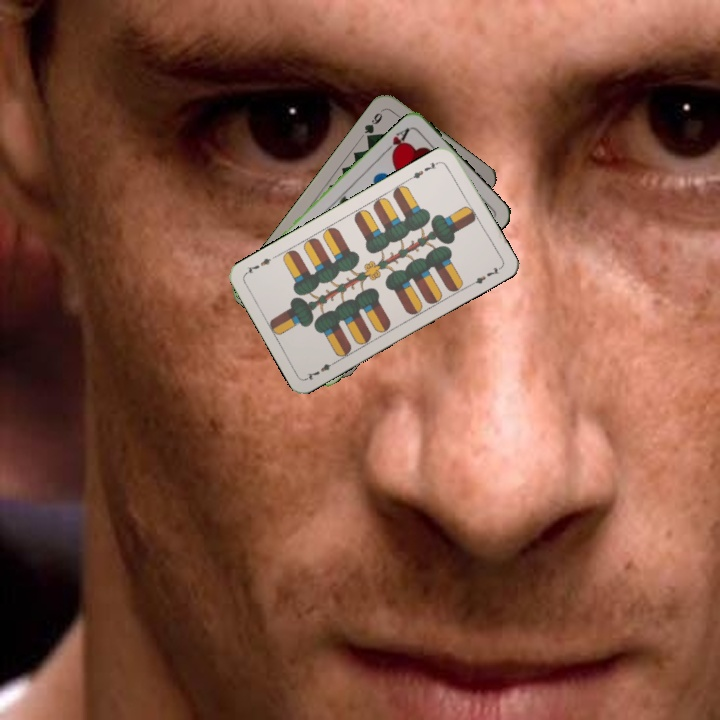E7: (303, 356, 340, 383), (405, 157, 443, 182)
G9: (360, 105, 387, 143)
HA: (380, 123, 413, 159)
